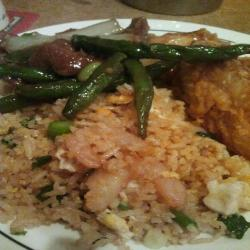rice: (9, 102, 240, 241)
